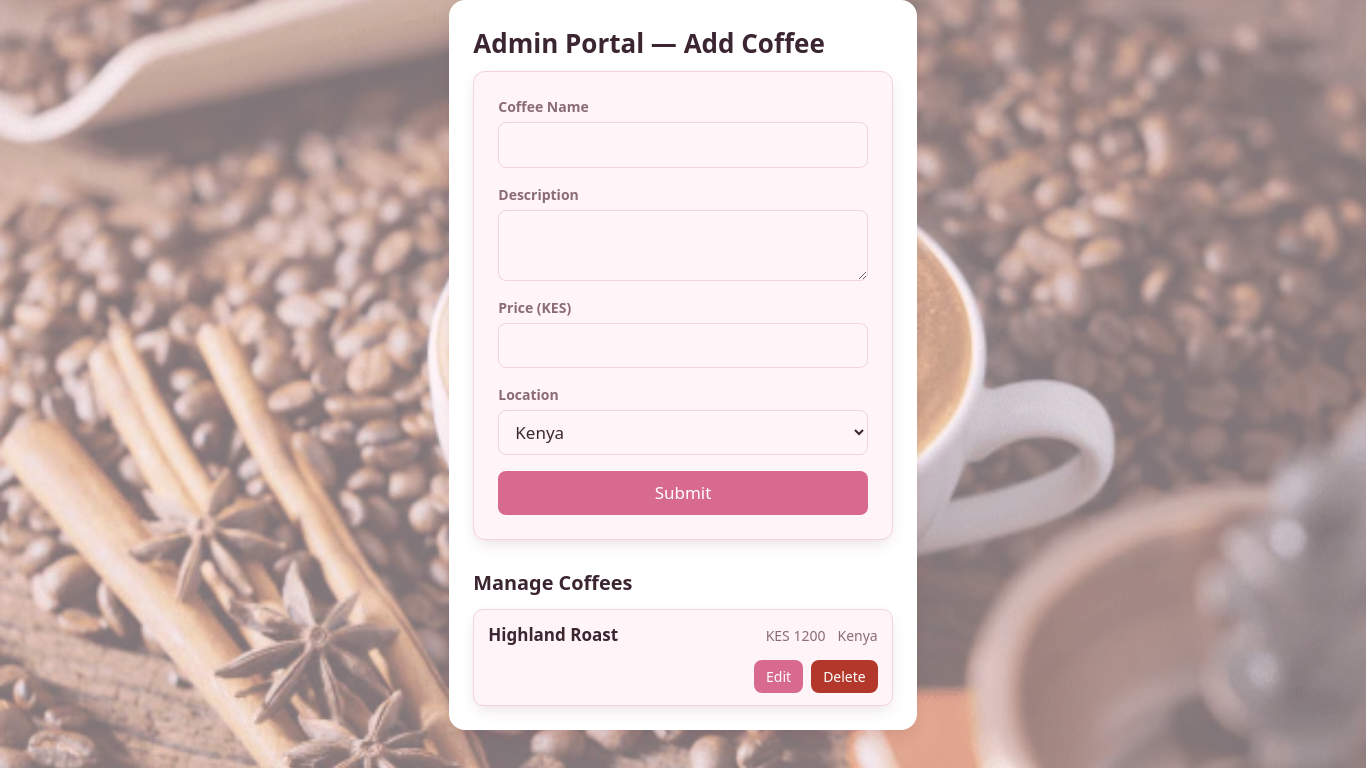
Admin Portal › editing a coffee fills the TOP panel (not a second inline form)
Expected: the text "Highland Roast" is shown, [488,623,618,646]
Click the button "Edit" at (779, 676), box [754,660,803,693]
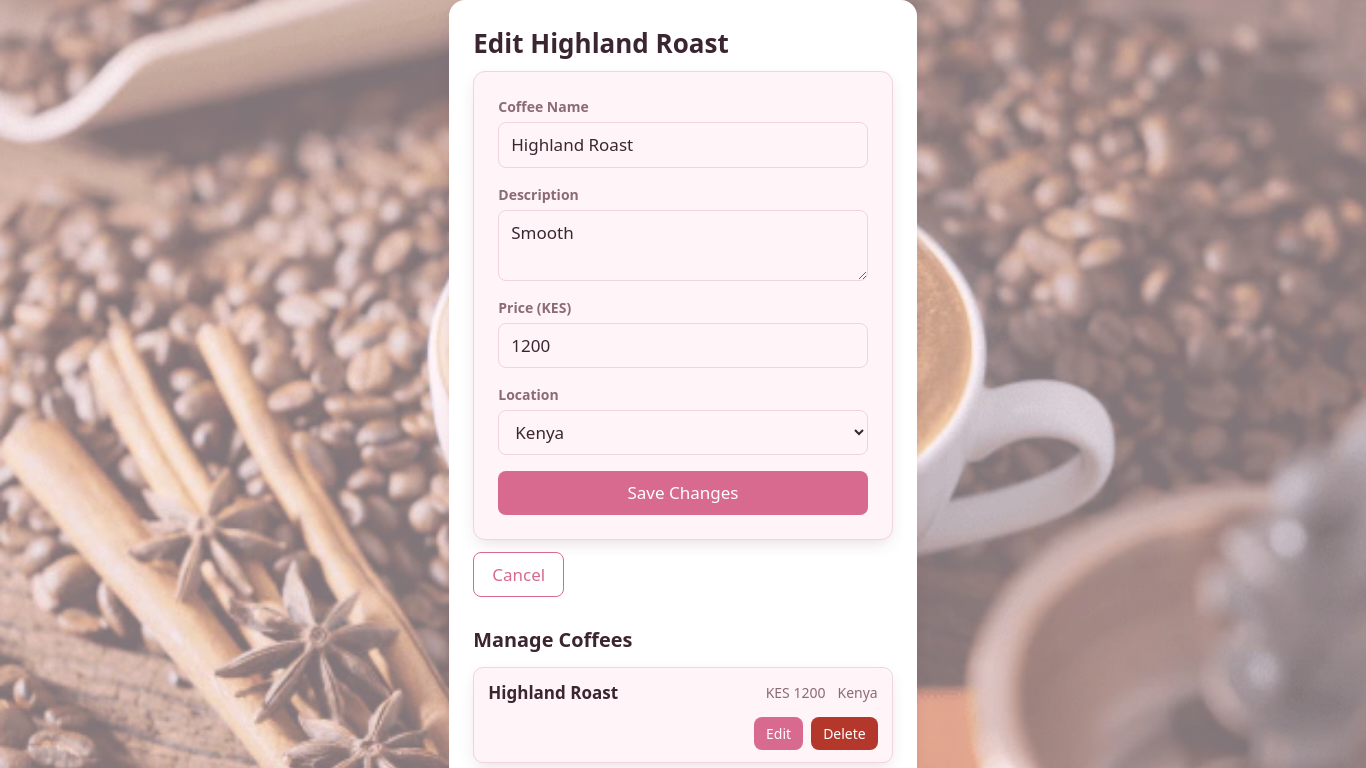
Result: the heading "Edit Highland Roast" is shown at [473,25,729,61]
Result: the field labelled "Coffee Name" holds "Highland Roast" at [498,122,868,168]
Result: the number of number fields labelled "Price (KES)" is 1
Replace the text in the number field labelled "Price (KES)" with "1500" at (683, 345), box [498,322,868,368]
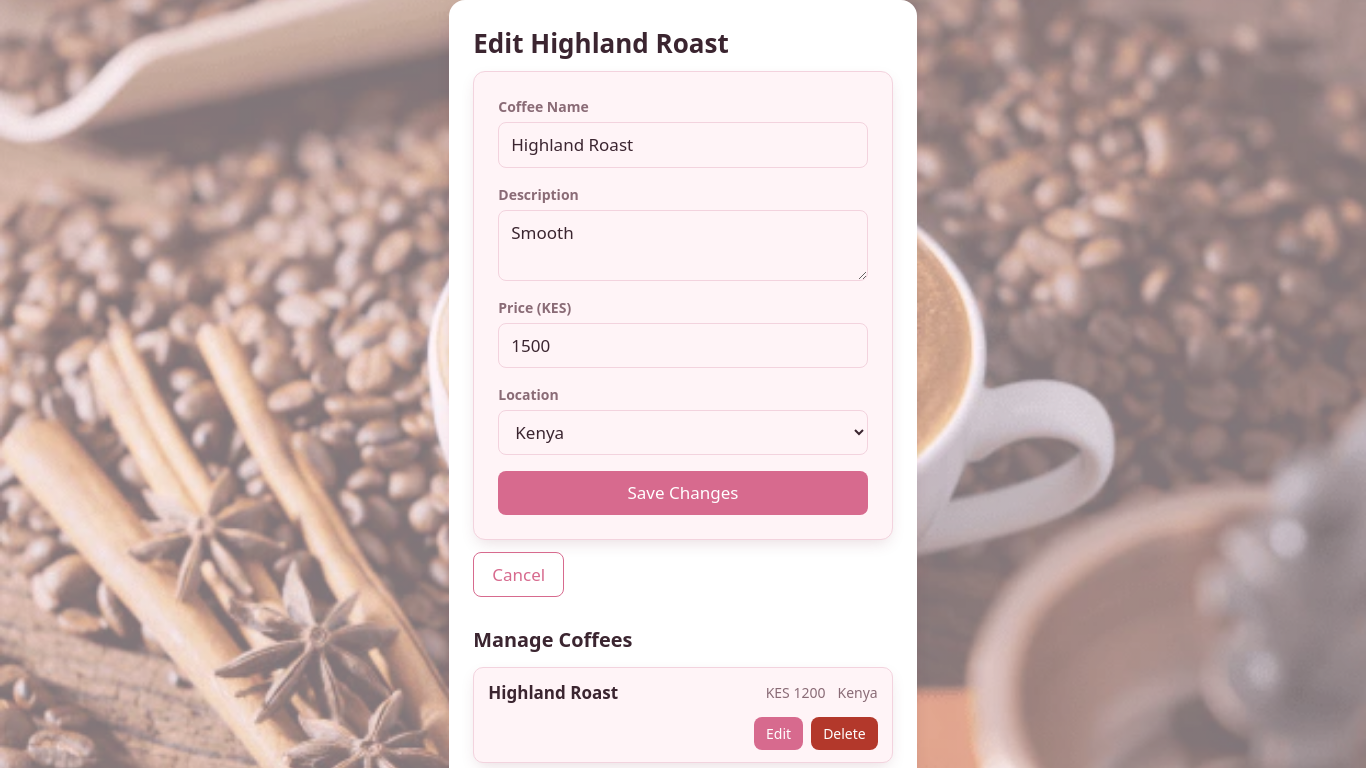
Click the button "Save Changes" at (683, 493), box [498,471,868,514]
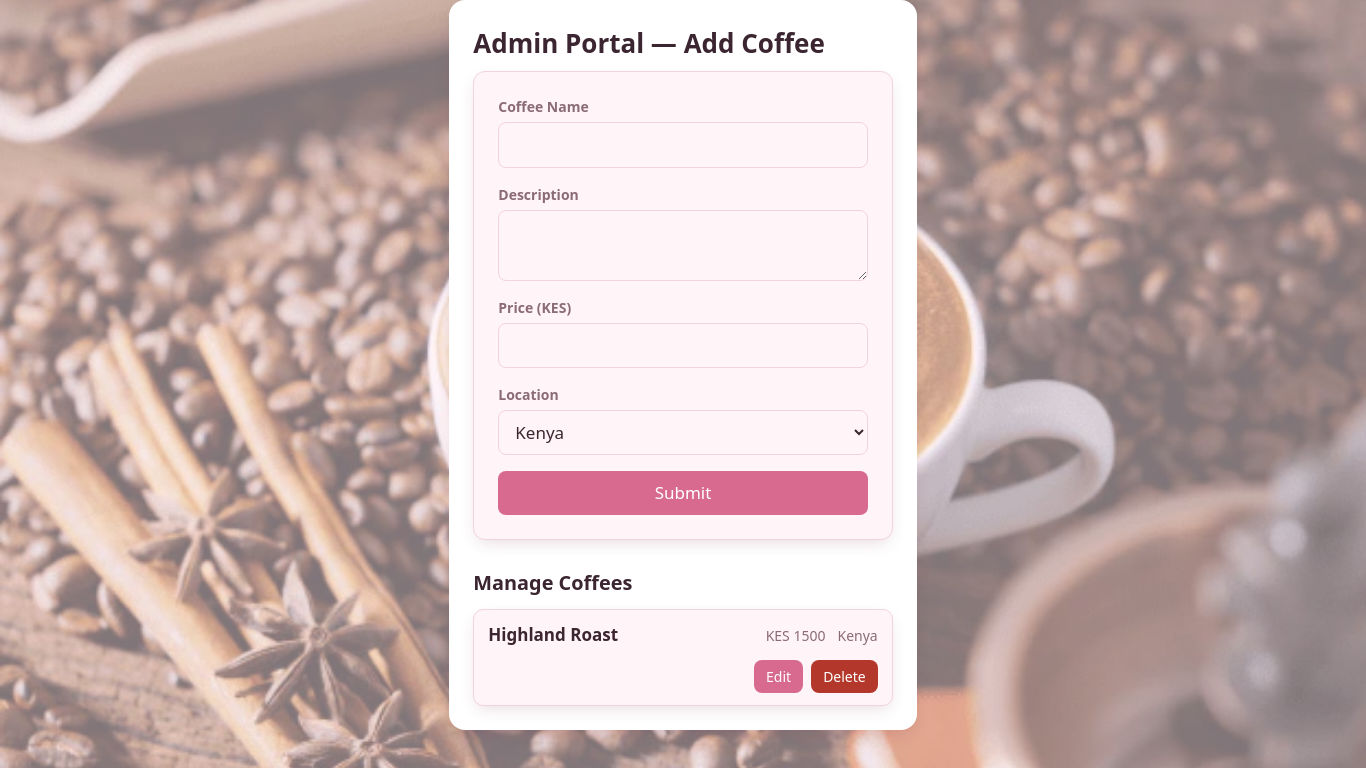
Result: the heading "Admin Portal — Add Coffee" is shown at [473,25,825,61]
